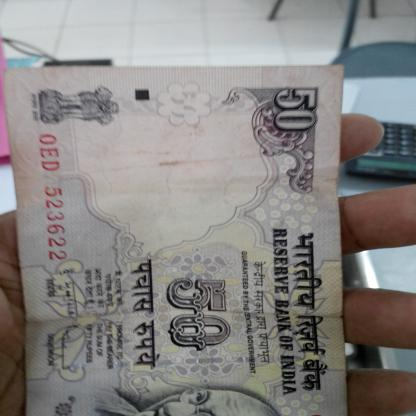Old50Front: (3, 66, 347, 415)
